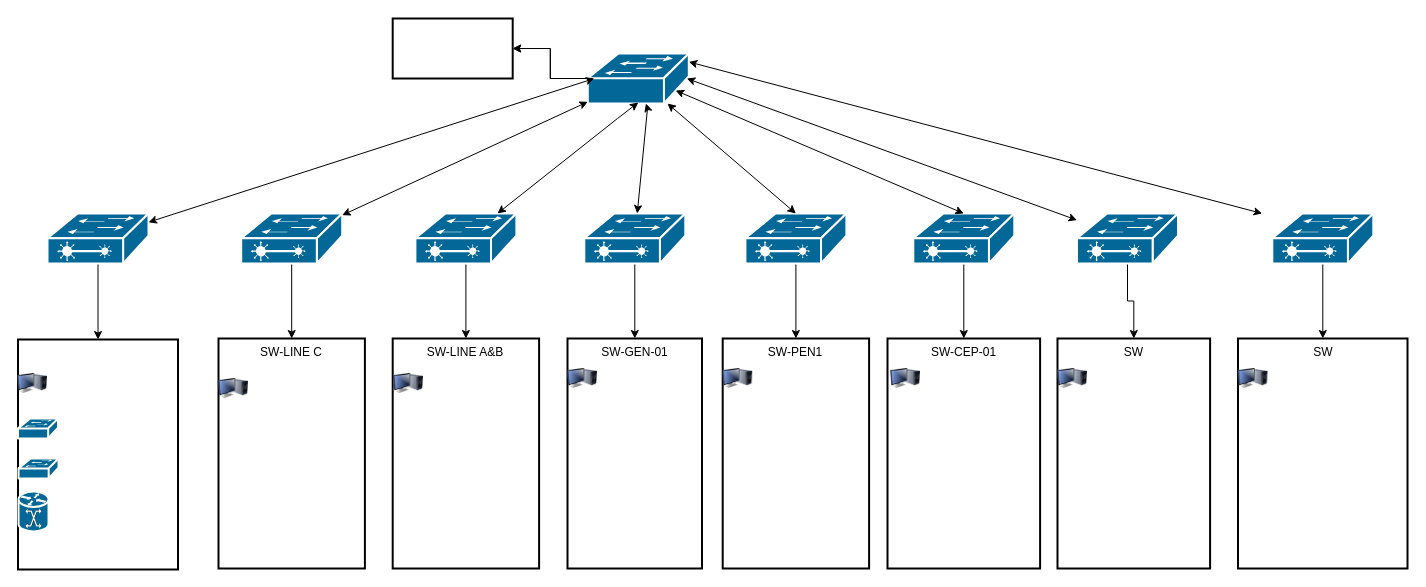
Image size: 1426x587. Some labels were removed from this diagram. The box of each missing label's shape, as (x1, y1, x2, y2) in pixels:
Fiber Optic Switch: (391, 17, 513, 79)
SW-PEN2 1-2-5-9-10-13-19-20 SW-CEP-002=11 SW-CEP-03=18 QNAP=17: (16, 338, 178, 570)
